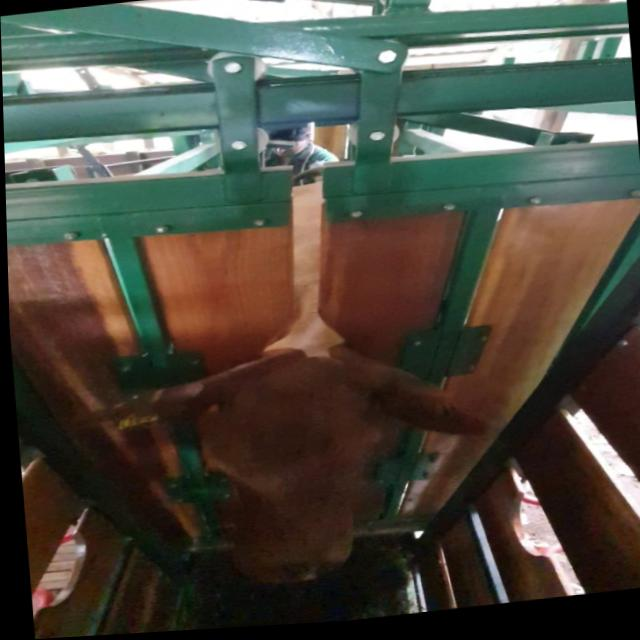cowFace: (198, 356, 391, 594)
